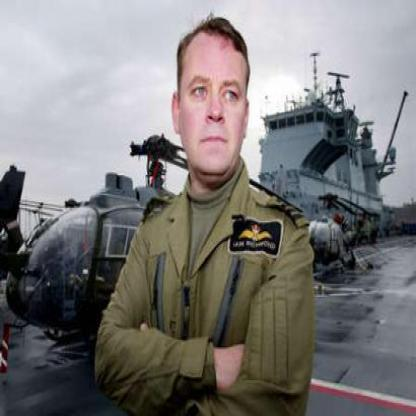face: (181, 25, 251, 177)
